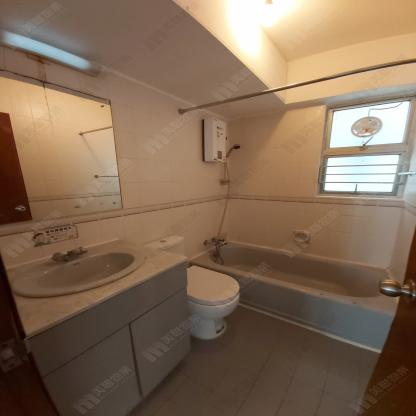Bathtub: (190, 240, 402, 358)
Exhaust Fan: (351, 116, 382, 136)
Toilet: (138, 233, 243, 341)
Toilet Sink: (9, 245, 149, 302)
Water Heater: (203, 118, 228, 164)
